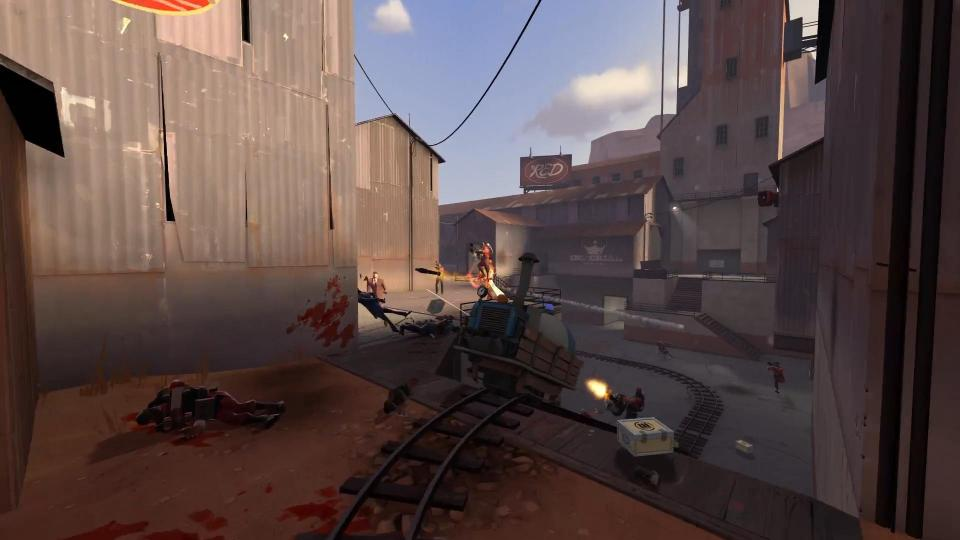Enemy: (135, 375, 290, 447), (355, 286, 412, 334), (399, 312, 461, 342), (604, 384, 647, 424), (764, 357, 790, 400), (467, 241, 493, 281), (365, 271, 387, 303), (432, 261, 446, 297)
